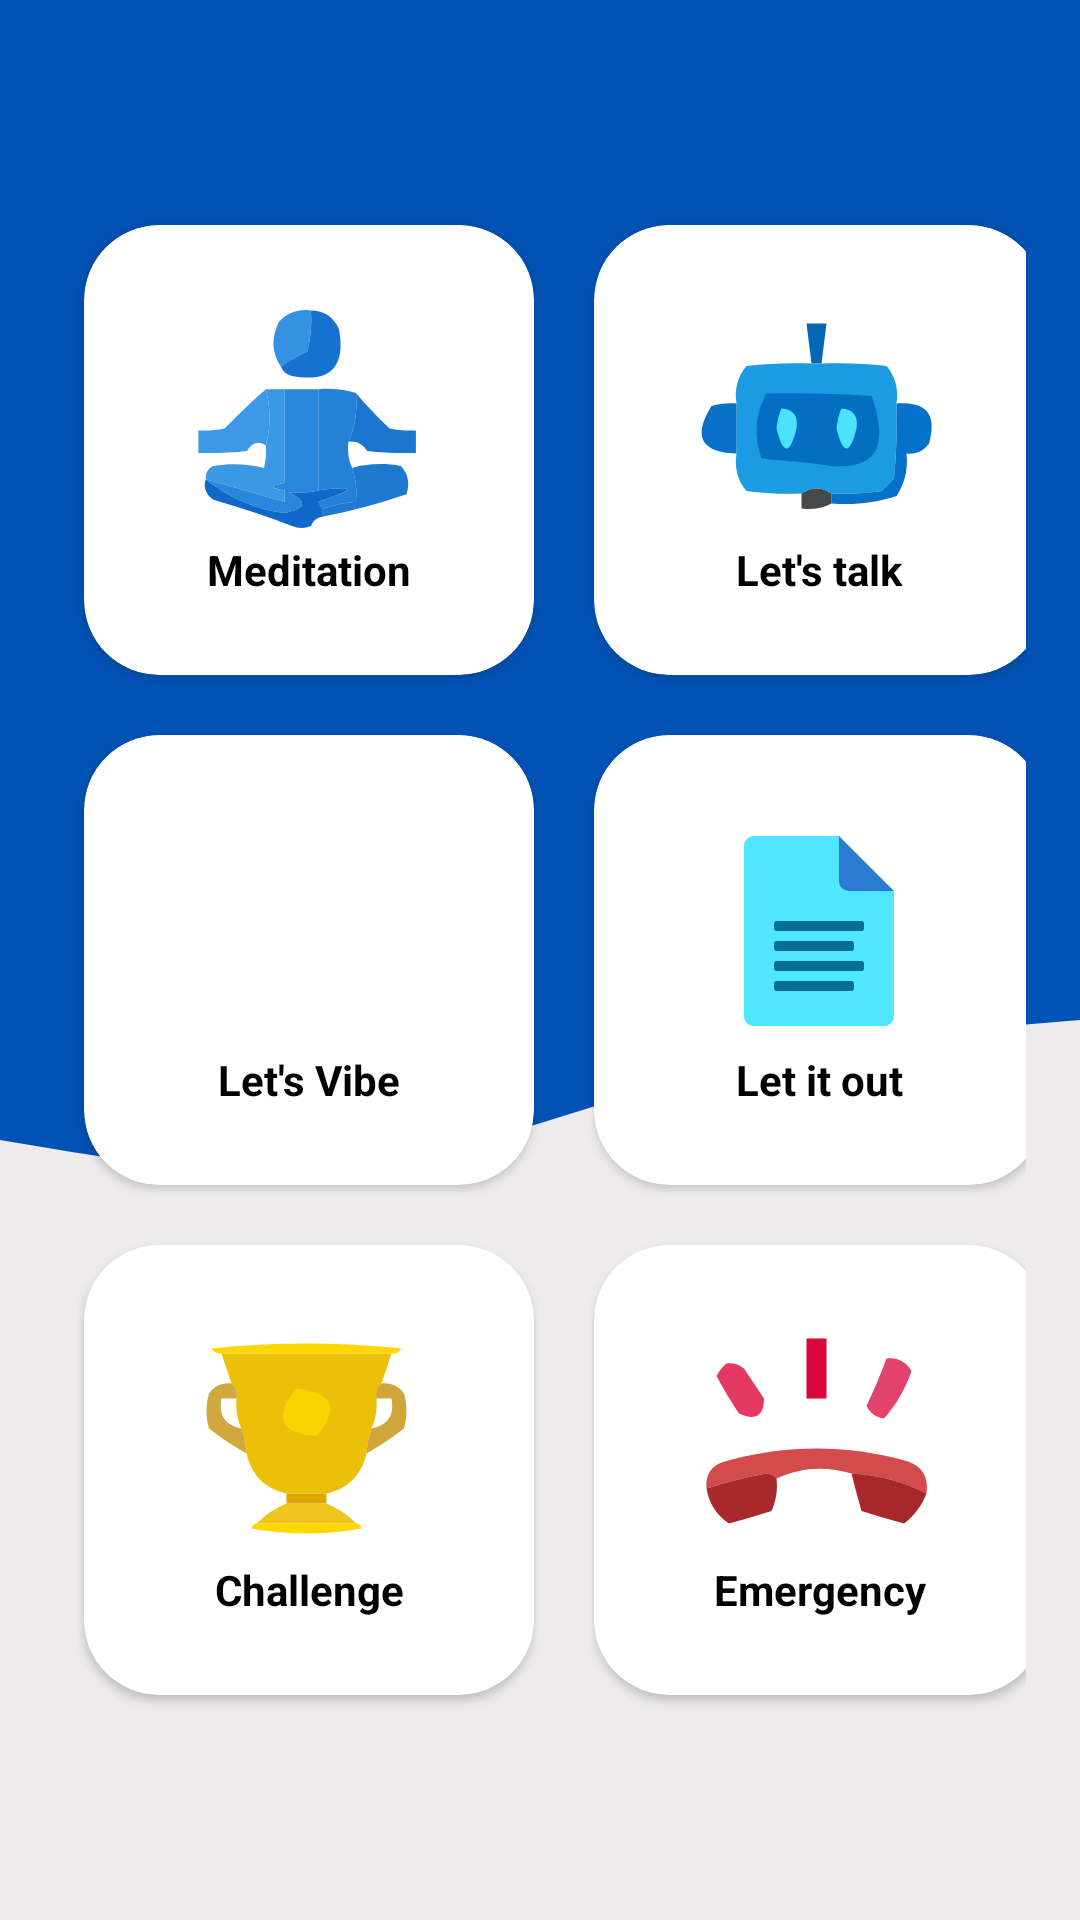

Named icons in this screenshot (1080w x 1920h) and their bounding boxes, BBox(x1, y1, x2, y2):
chatbot: BBox(701, 323, 932, 509)
yoga: BBox(198, 310, 416, 528)
